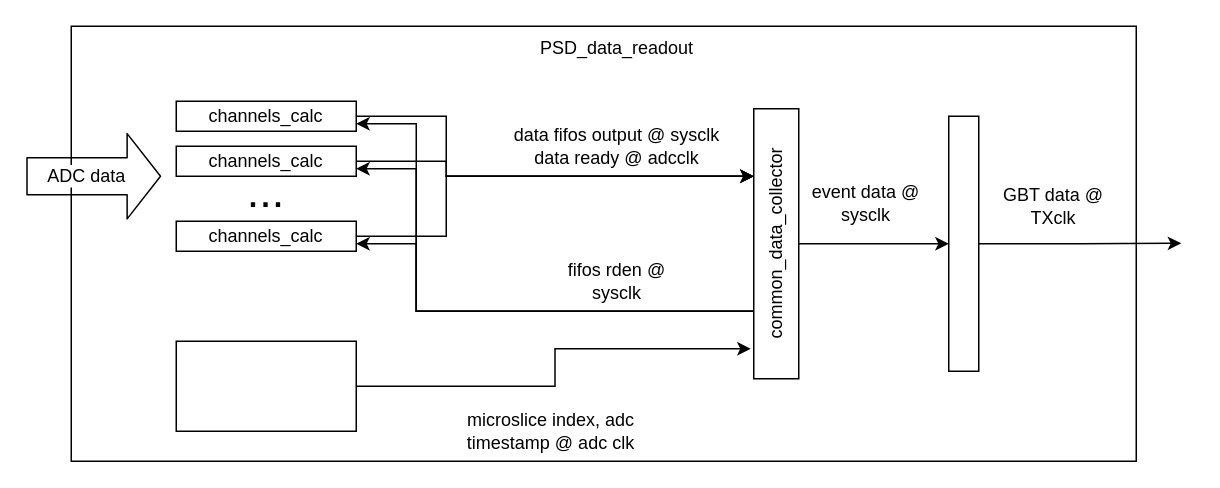
Some shapes in this 1220 by 488 pixel diagram are drawn without their labels. Each missing label, with the centre of its shape:
"gbt_data_sender" goes at (x=963, y=243).
"microslice generator" goes at (x=265, y=385).
